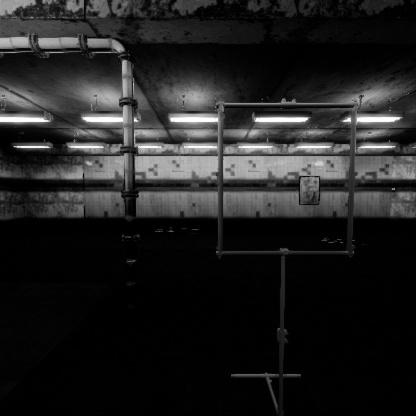gate: (217, 158, 369, 313)
